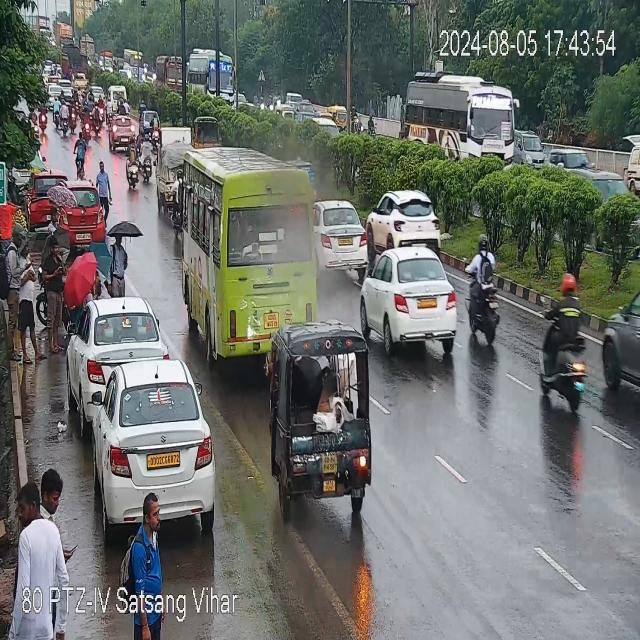2-wheelers: (171, 168, 188, 235), (140, 134, 154, 182), (81, 105, 94, 146), (127, 143, 138, 190), (58, 99, 70, 138)
auto: (267, 324, 376, 512), (329, 104, 349, 132)
bus: (184, 146, 312, 352), (402, 72, 516, 172), (188, 51, 236, 98), (124, 51, 146, 82)
car: (86, 355, 216, 526), (359, 246, 460, 348), (69, 294, 168, 394), (310, 198, 369, 286), (366, 189, 442, 257), (601, 268, 640, 398), (62, 184, 106, 246), (27, 169, 72, 228), (548, 146, 591, 184), (515, 129, 548, 170), (110, 114, 142, 152), (195, 118, 224, 152), (107, 86, 131, 114), (142, 111, 162, 132)
pedestrian: (9, 477, 72, 640), (120, 495, 166, 639), (540, 276, 586, 407), (62, 248, 104, 336), (465, 239, 501, 341), (18, 238, 44, 360), (4, 219, 25, 363), (37, 239, 66, 335), (108, 232, 128, 293), (96, 162, 110, 215)
truck: (155, 128, 194, 210), (156, 54, 188, 98), (60, 44, 87, 79), (55, 22, 73, 52), (35, 15, 51, 44), (81, 34, 97, 61)
